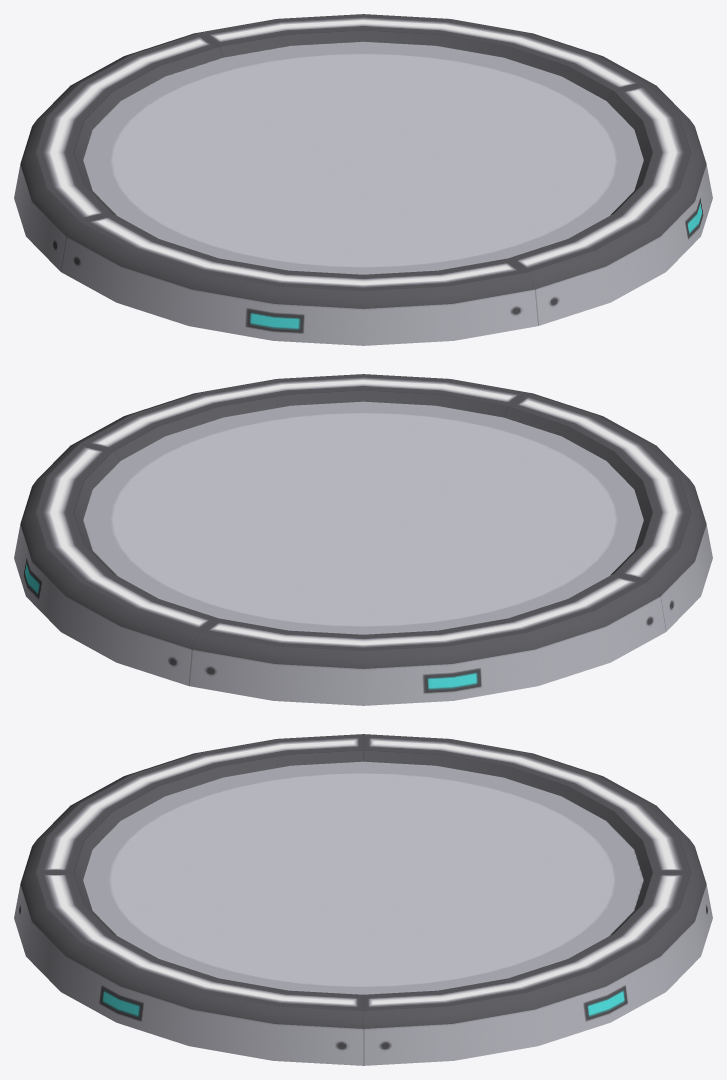
The model's file is Podium_08.FBX.
The picture shows the model from 3 angles, top to bottom: view 1: azimuth 30°, elevation 25°; view 2: azimuth 150°, elevation 25°; view 3: azimuth 270°, elevation 25°; orthographic projection.
Parts seen in each view (by area): view 1: Podium_08; view 2: Podium_08; view 3: Podium_08.
Part boxes in pixels (<box>): Podium_08: <box>14,14,712,345</box>; Podium_08: <box>14,374,712,705</box>; Podium_08: <box>14,734,712,1065</box>.
Size of the model in its own units: 4.59 by 0.3306 by 4.59.
Materials: 1 (1 with a texture image).
